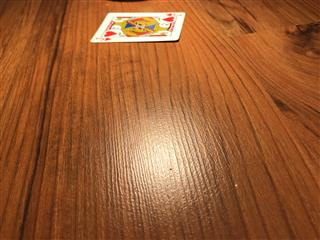JackOfHearts: (89, 11, 186, 42)
